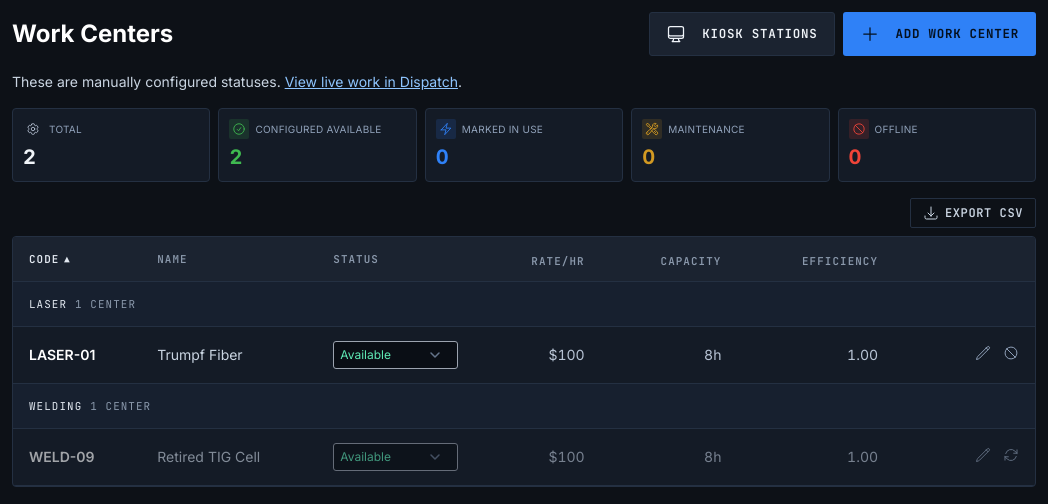
it: WorkCenters deactivate / reactivate controls › reactivates an inactive work center directly (no confirm) and reloads
The width and height of the screenshot is (1048, 504).
Click the button named "Reactivate WELD-09": (1011, 455) left=1003, top=447, right=1019, bottom=463
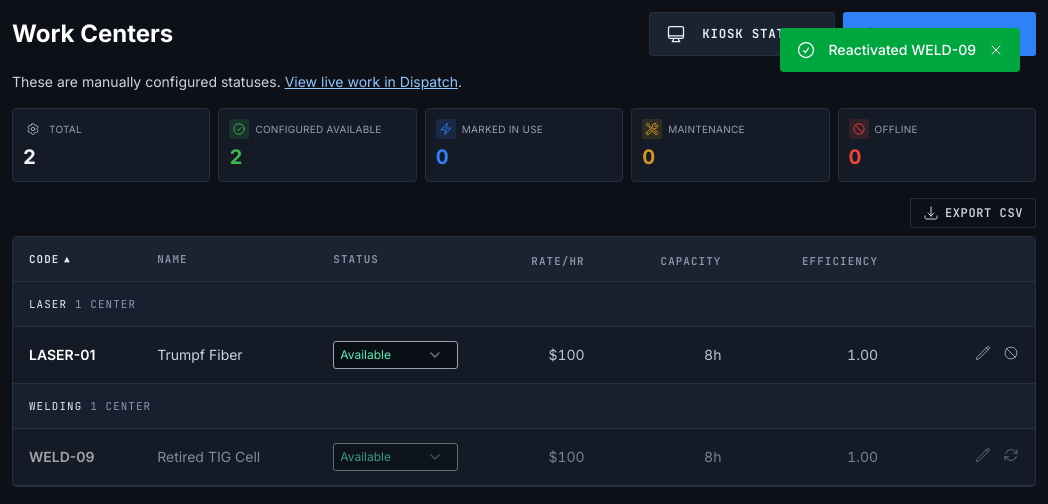
Expected: the text "Reactivated WELD-09" is shown, left=828, top=40, right=976, bottom=60
